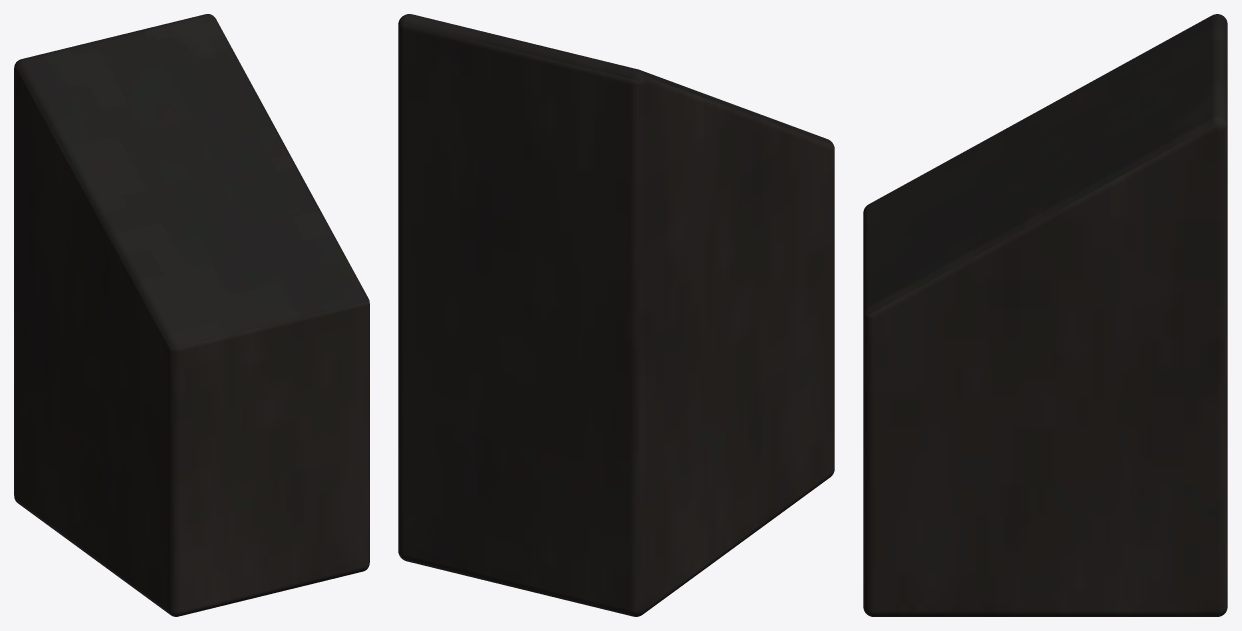
Rendered from Rez_Strelec_cerny.glb.
3 views of the same model, side by side, from view 1: azimuth 30°, elevation 25°; view 2: azimuth 150°, elevation 25°; view 3: azimuth 270°, elevation 25° (orthographic). The views are drawn at different scales.
Parts seen in each view (by area): view 1: Rez_Strelec_cerny; view 2: Rez_Strelec_cerny; view 3: Rez_Strelec_cerny.
Boxes of the visible parts, left/top/right/bottom form: Rez_Strelec_cerny: left=14, top=14, right=369, bottom=616; Rez_Strelec_cerny: left=398, top=14, right=834, bottom=616; Rez_Strelec_cerny: left=863, top=14, right=1227, bottom=616.
Size of the model in its own units: 0.02 by 0.0424 by 0.028.
2 materials, 2 textured.
